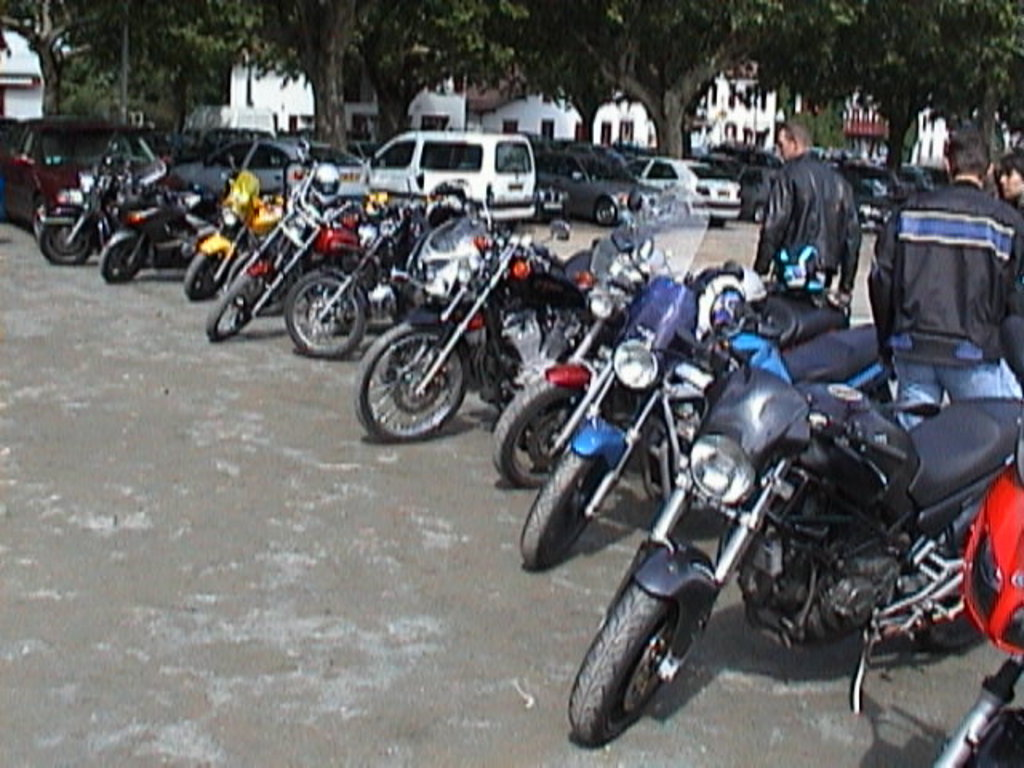Car: (0, 110, 950, 246), (0, 118, 177, 241), (179, 135, 374, 206), (532, 153, 675, 222), (628, 158, 739, 222), (736, 166, 779, 224)
